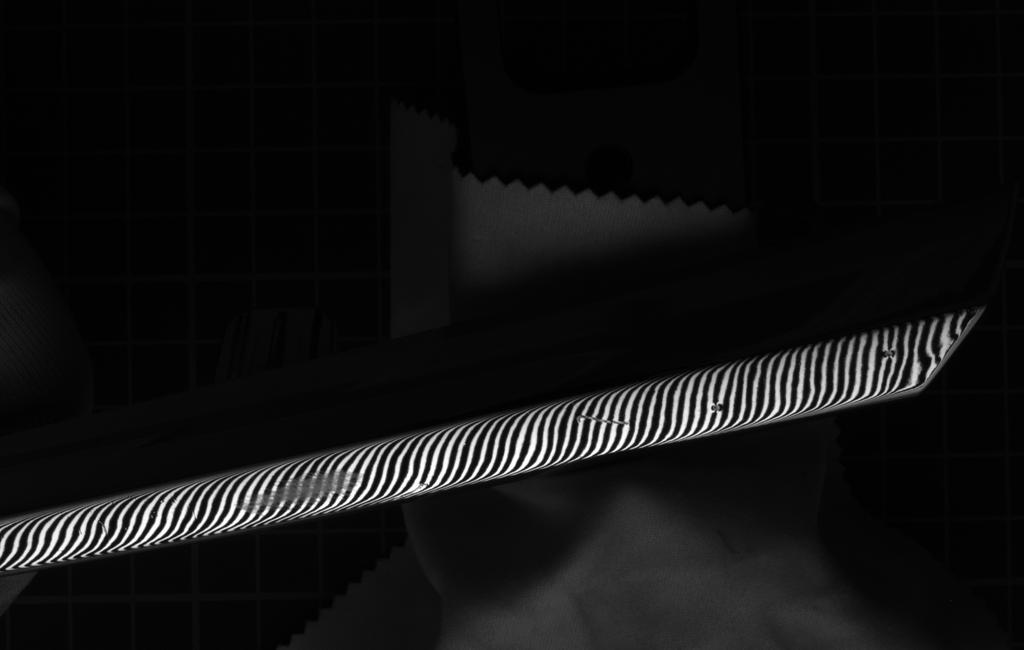Pierced: (703, 399, 732, 418), (880, 346, 900, 362)
Pitting: (237, 466, 378, 515)
Scratch: (568, 409, 648, 431)
